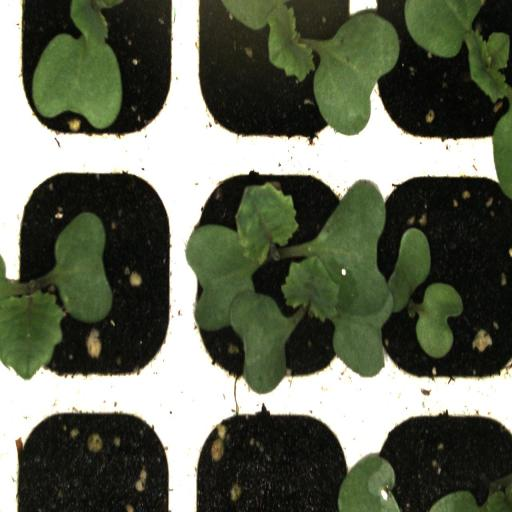seedling: (6, 155, 182, 402), (367, 156, 512, 397), (183, 2, 366, 159), (364, 1, 512, 163)
twoseedling: (183, 158, 366, 402)
